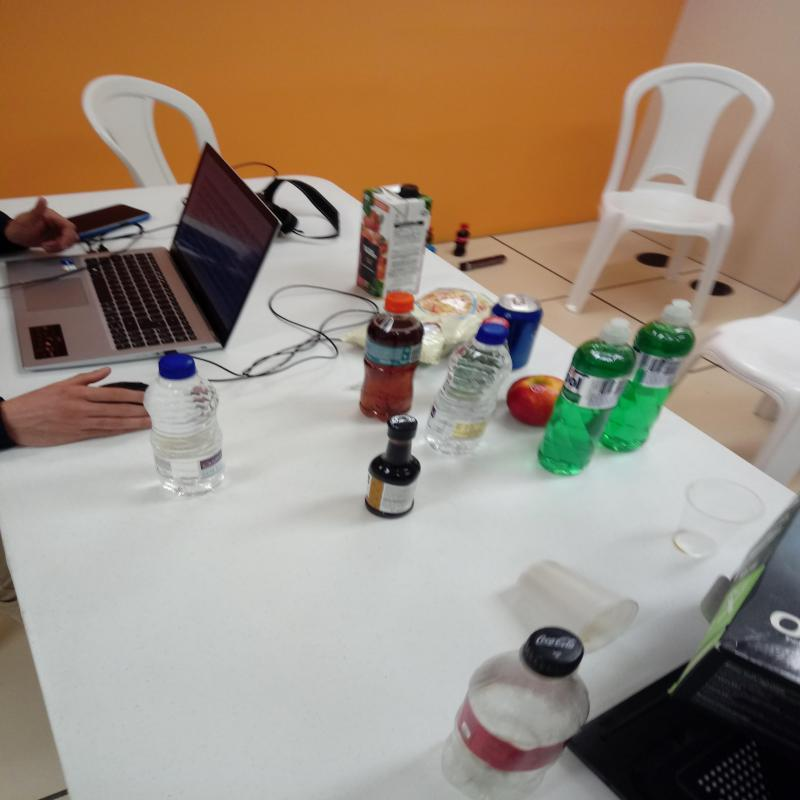Apple: (503, 374, 564, 428)
Cleaner: (538, 318, 636, 477), (600, 299, 697, 454)
CornFlakes: (411, 288, 494, 364), (339, 323, 368, 349)
EnglishSauce: (366, 417, 420, 515)
IceTea: (360, 292, 424, 424)
Tonic: (492, 294, 543, 372)
Water: (144, 350, 225, 500), (428, 323, 512, 446)
